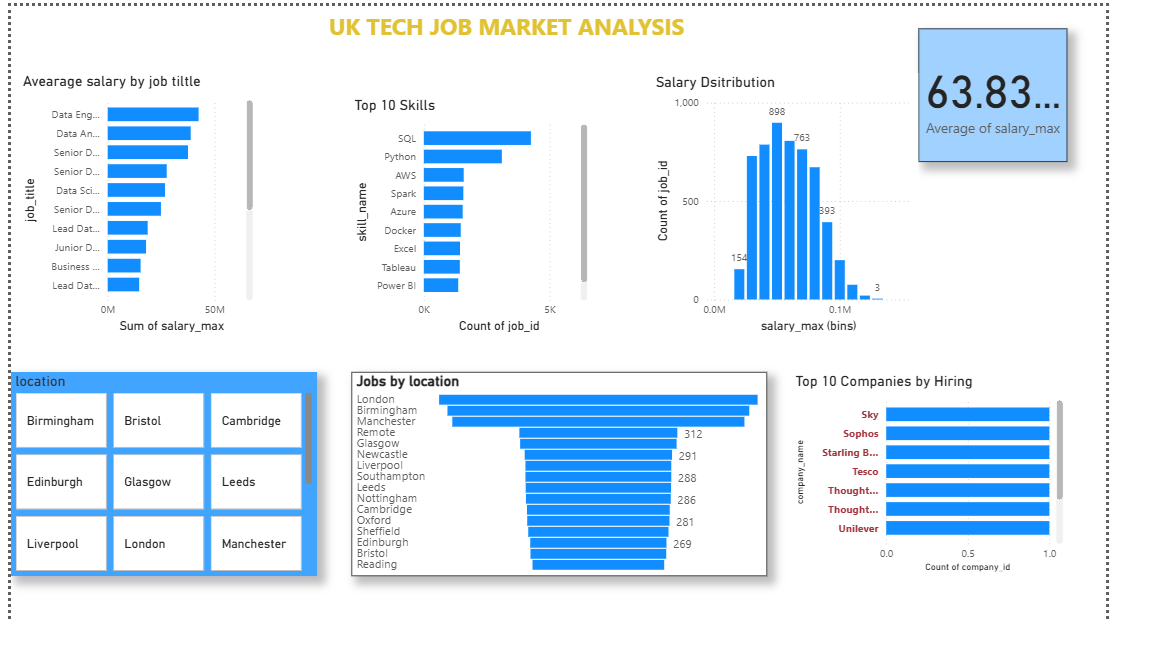

This screenshot's page, from the dashboard's own definition file:
{"tool":"powerbi","page":{"name":"Page 1","canvas":[1280,720],"ordinal":0},"visuals":[{"type":"clusteredBarChart","title":"Avearage salary by job tiltle","fields":{"Category":["job_postings.job_title"],"Y":["Sum(job_postings.salary_max)"]},"box":[8.8,77.2,278.9,308.8],"z":0},{"type":"card","fields":{"Values":["Avg(job_postings.salary_max)"]},"box":[1061.4,26.3,173.7,156.1],"z":1000},{"type":"clusteredBarChart","title":"Top 10 Skills","fields":{"Category":["job_skills.skill_name"],"Y":["CountNonNull(job_skills.job_id)"]},"box":[396.5,105.3,282.5,280.7],"z":2000},{"type":"advancedSlicerVisual","title":"location","fields":{"Values":["job_postings.location"]},"box":[0,428.1,357.9,238.6],"z":3000},{"type":"columnChart","title":"Salary Dsitribution","fields":{"Y":["CountNonNull(job_postings.job_id)"],"Category":["job_postings.salary_max (bins)"]},"box":[749.1,78.9,312.3,307],"z":4000},{"type":"funnel","title":"Jobs by location","fields":{"Category":["job_postings.location"],"Y":["CountNonNull(job_postings.job_id)"]},"box":[398.2,428.1,486,238.6],"z":4001},{"type":"clusteredBarChart","title":"Top 10 Companies by Hiring","fields":{"Category":["companies.company_name"],"Y":["CountNonNull(companies.company_id)"]},"box":[912.3,428.1,322.8,238.6],"z":4002},{"type":"textbox","box":[366.7,0,536.8,50.9],"z":4003}]}

Visuals, with their boxes in screenshot pixels (x1, y1, x2, y2), scaled from the page's 1280x720 canvas onto the 1152x648 screenshot:
"Avearage salary by job tiltle" clusteredBarChart: [x1=8, y1=69, x2=259, y2=347]
card - Avg(job_postings.salary_max): [x1=955, y1=24, x2=1112, y2=164]
"Top 10 Skills" clusteredBarChart: [x1=357, y1=95, x2=611, y2=347]
"location" advancedSlicerVisual: [x1=0, y1=385, x2=322, y2=600]
"Salary Dsitribution" columnChart: [x1=674, y1=71, x2=955, y2=347]
"Jobs by location" funnel: [x1=358, y1=385, x2=796, y2=600]
"Top 10 Companies by Hiring" clusteredBarChart: [x1=821, y1=385, x2=1112, y2=600]
textbox: [x1=330, y1=0, x2=813, y2=46]
